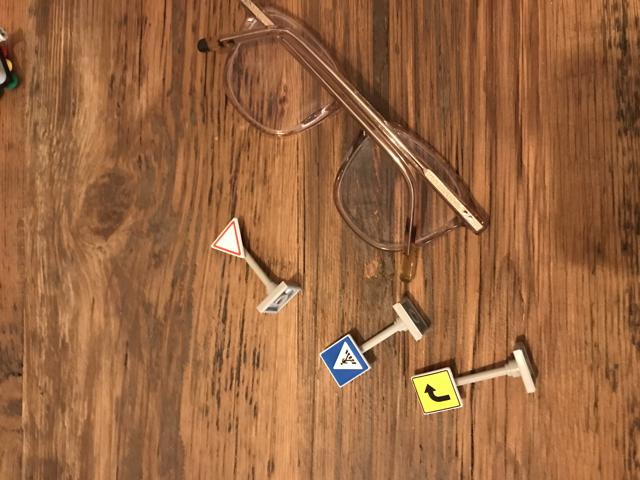fahrtrichtung rechts: (411, 366, 465, 414)
fußgängerüberweg: (321, 332, 371, 389)
vorfahrt gewähren: (214, 220, 248, 261)
